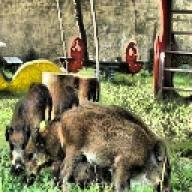boar: (56, 99, 172, 192)
